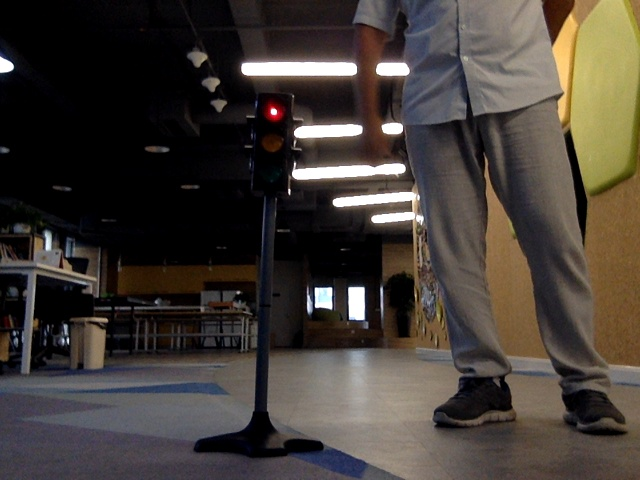red: (256, 92, 286, 193)
